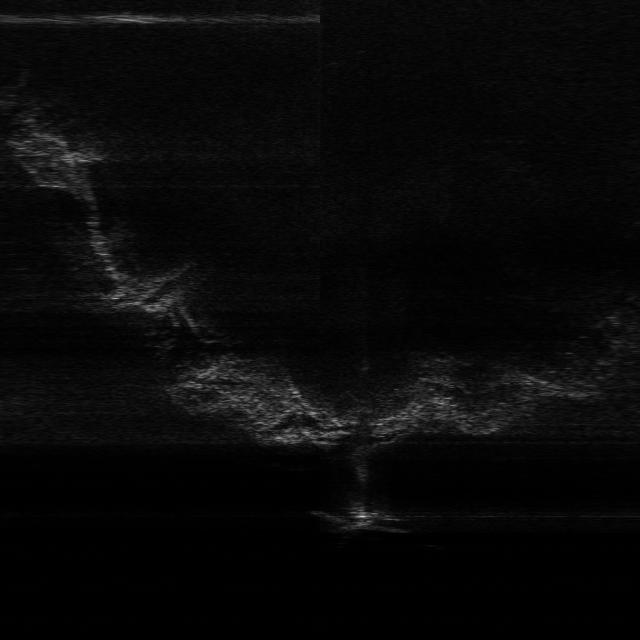plane: (310, 504, 414, 536)
